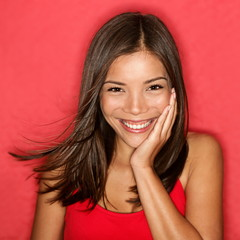teen: (78, 24, 188, 135)
